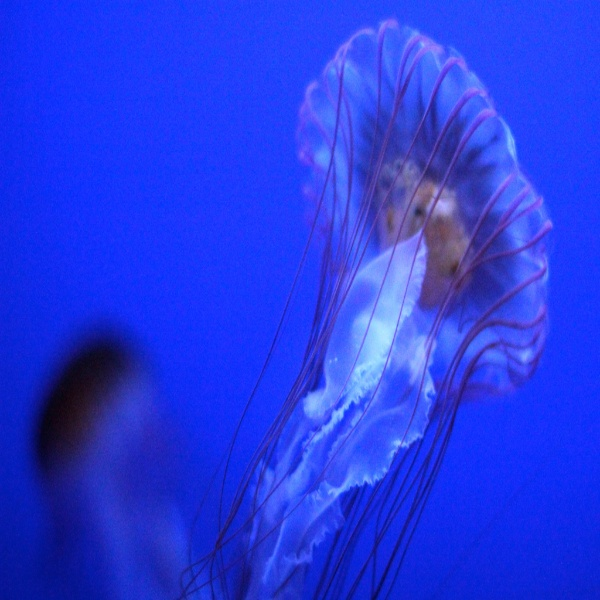Jellyfish: (176, 14, 554, 598)
